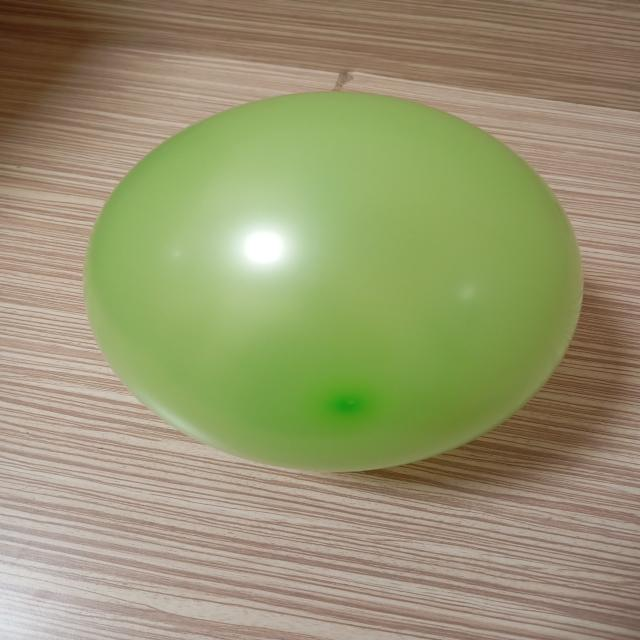balloon: (83, 92, 583, 471)
